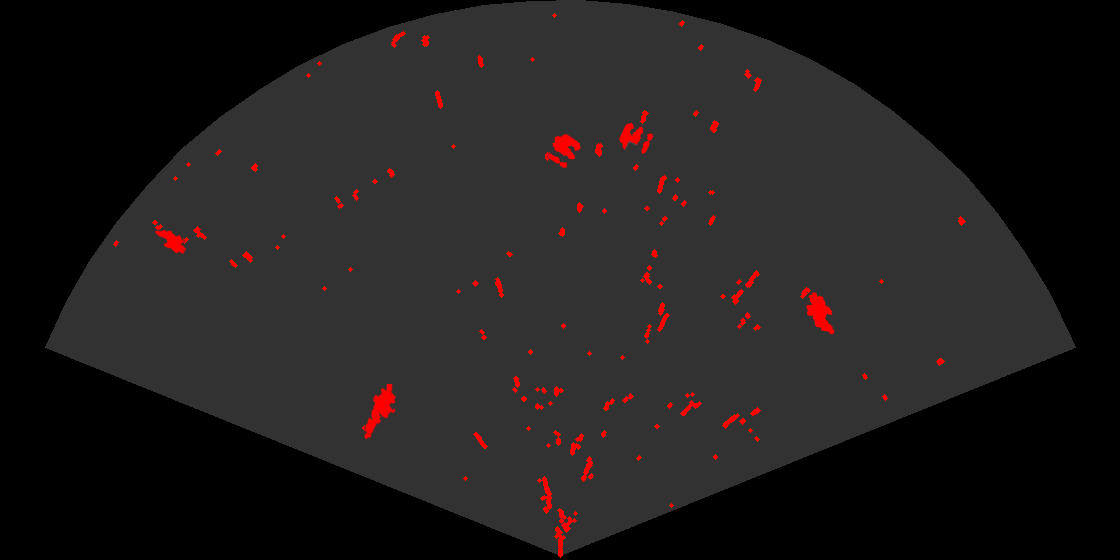AUV: (805, 291, 836, 336), (153, 228, 188, 255)
ball: (547, 132, 582, 170), (617, 121, 655, 156)
frogman: (363, 384, 398, 441)
